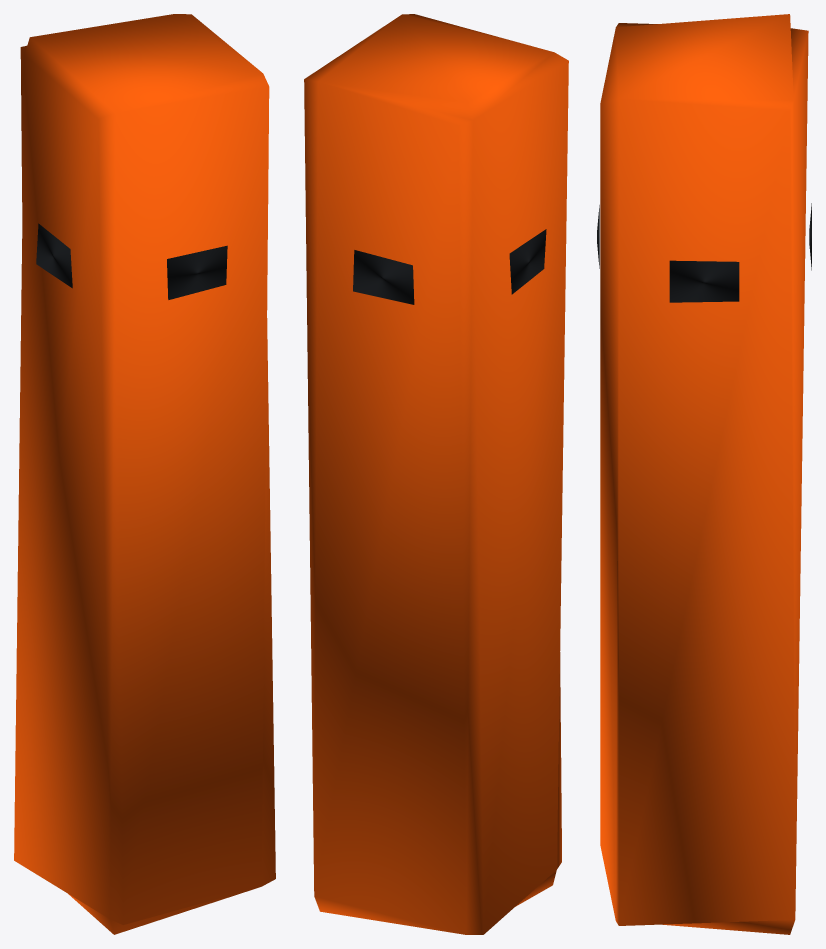
File: pylon_nfl_lod1.glb
3 renders of one model, left to right at view 1: azimuth 30°, elevation 25°; view 2: azimuth 150°, elevation 25°; view 3: azimuth 270°, elevation 25°, orthographic.
Visible parts, largest first — view 1: pylon_nfl__prop_orange, pylon_nfl__prop_black; view 2: pylon_nfl__prop_orange, pylon_nfl__prop_black; view 3: pylon_nfl__prop_orange, pylon_nfl__prop_black.
Boxes of the visible parts, box(x1,y1,x2,y2) form: pylon_nfl__prop_orange: box(14, 14, 275, 934); pylon_nfl__prop_black: box(36, 223, 227, 299); pylon_nfl__prop_orange: box(304, 14, 568, 934); pylon_nfl__prop_black: box(353, 229, 546, 304); pylon_nfl__prop_orange: box(600, 14, 808, 934); pylon_nfl__prop_black: box(597, 203, 811, 302).
Bounding box in the file's own units: 0.1049 × 0.4572 × 0.1049.
